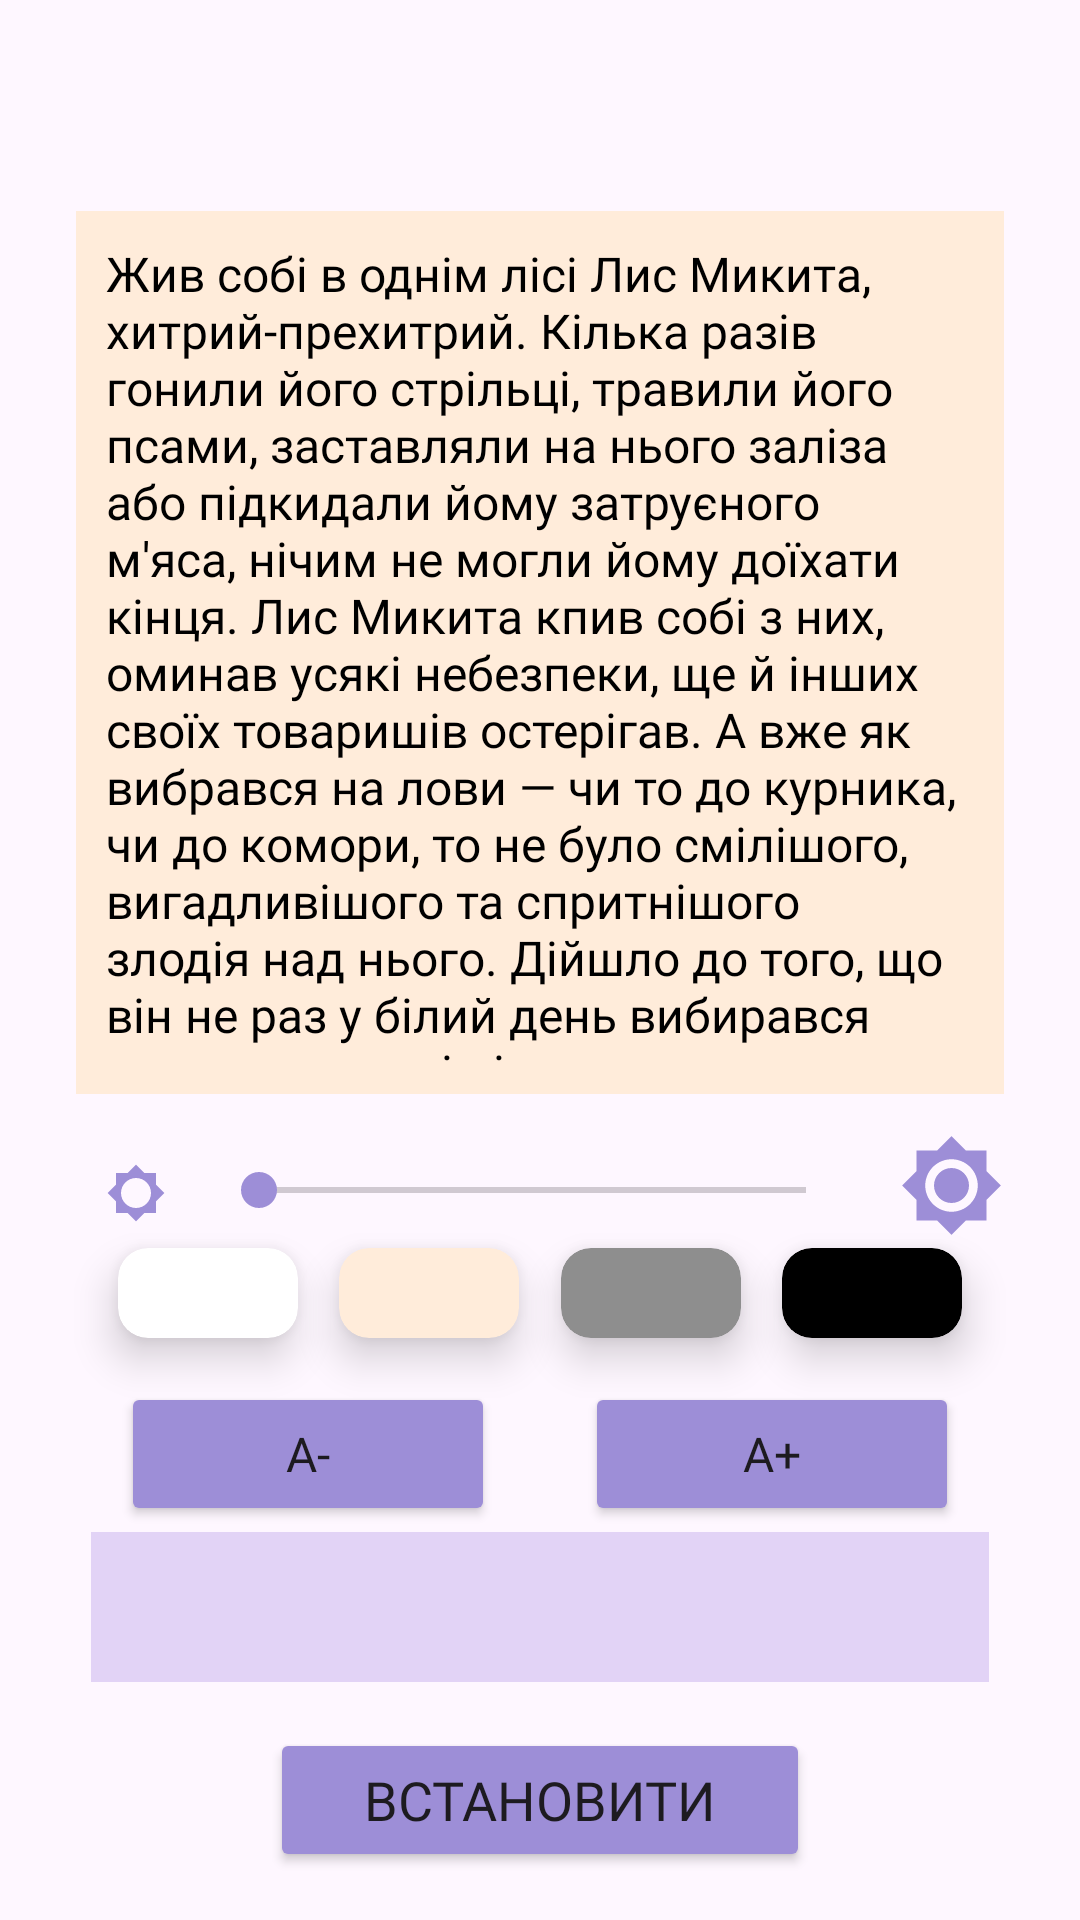

Named icons in this screenshot (1080*1920) and their centers, (x=x, y=y):
brightness high: (x=951, y=1185)
brightness low: (x=136, y=1193)
